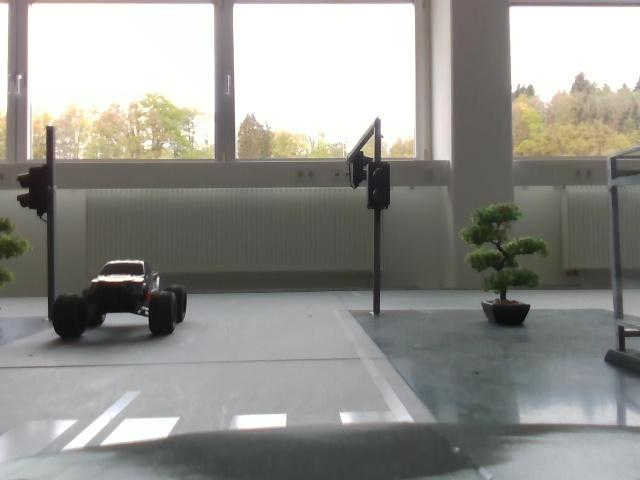car: (54, 257, 192, 343)
potted plant: (463, 202, 554, 335), (1, 211, 25, 303)
traffic light: (17, 167, 59, 221), (366, 165, 397, 216), (348, 150, 370, 195)
